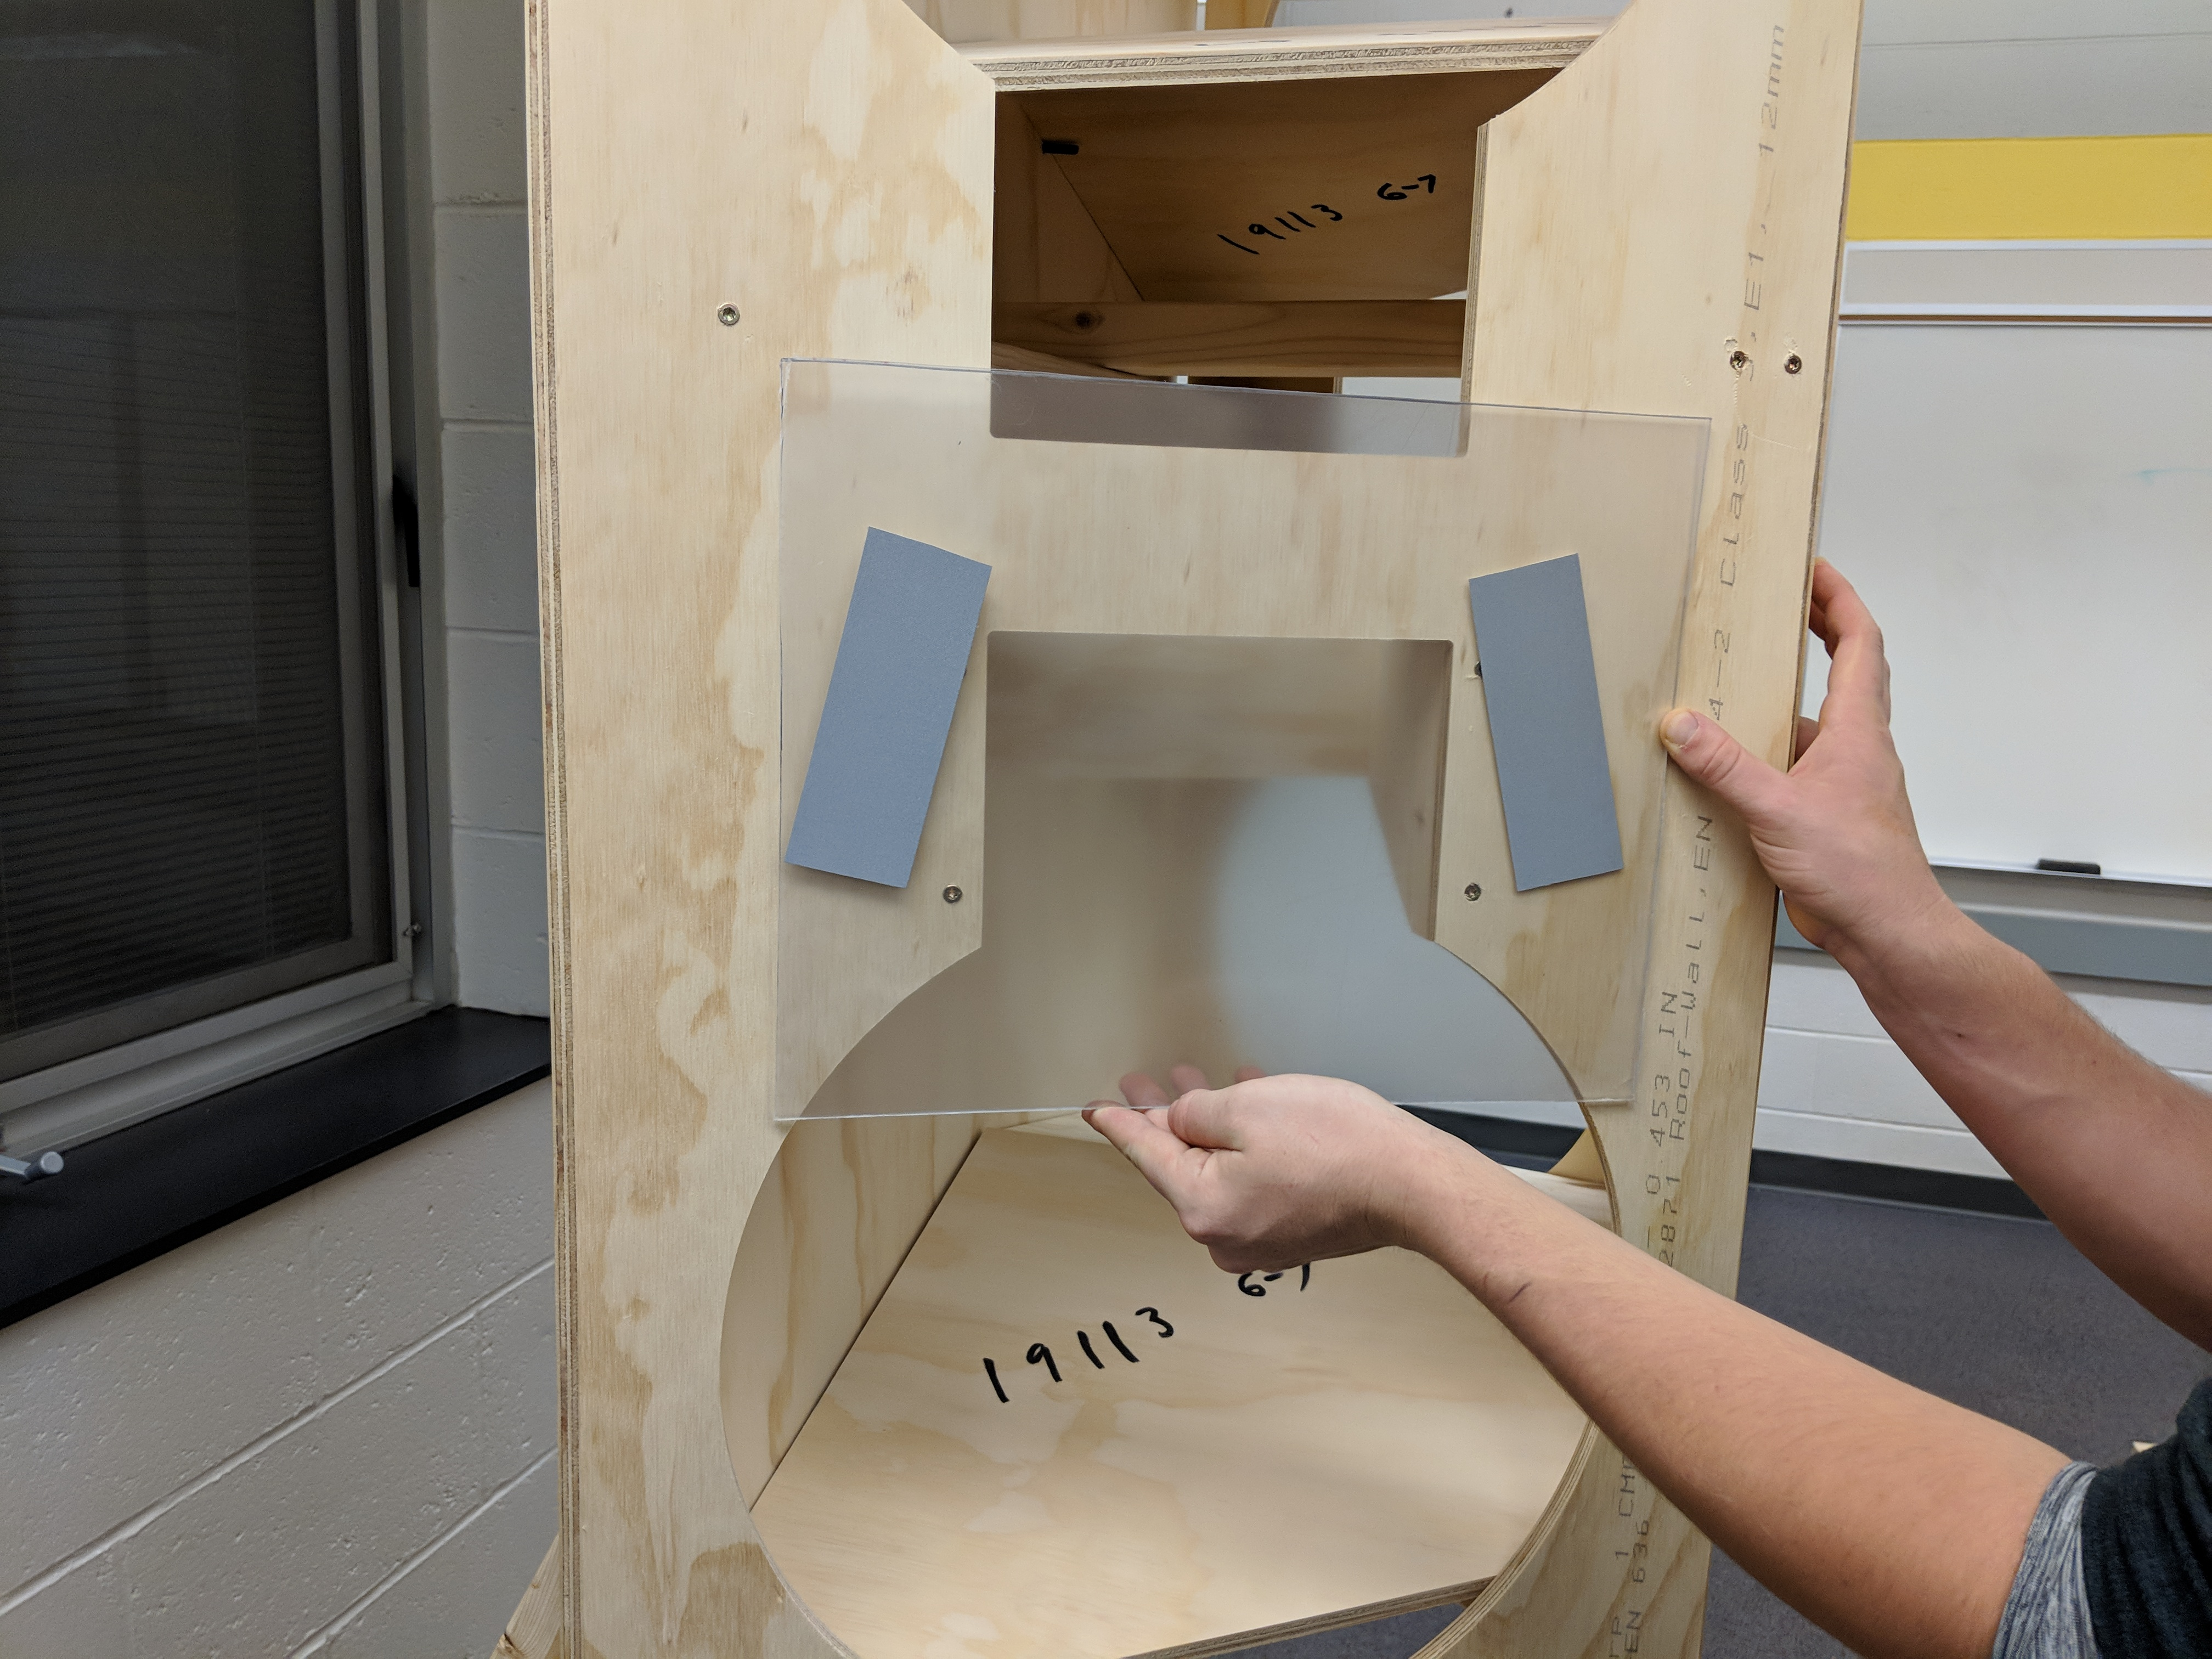vision_target: (782, 519, 1632, 901)
